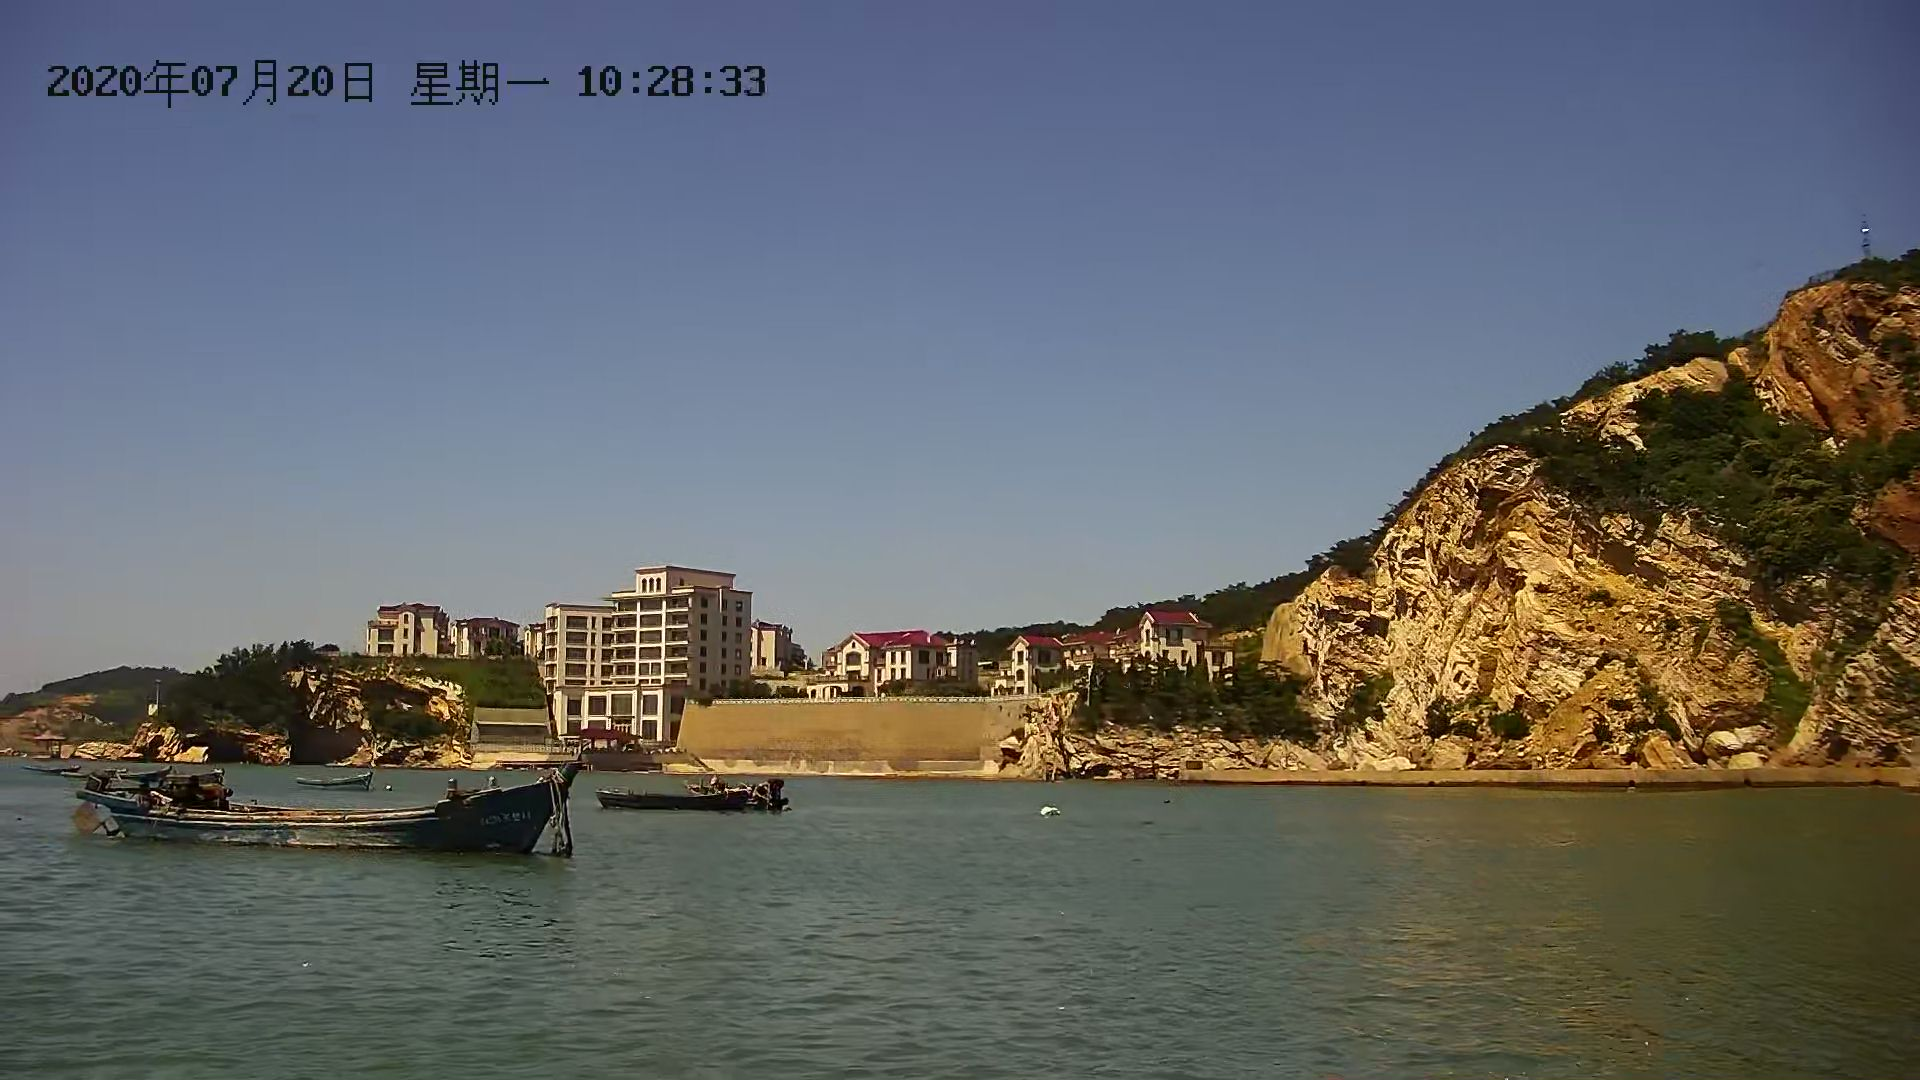boat: (91, 760, 574, 870), (593, 773, 791, 823), (291, 770, 381, 798)
rubbish: (1042, 803, 1063, 822)
